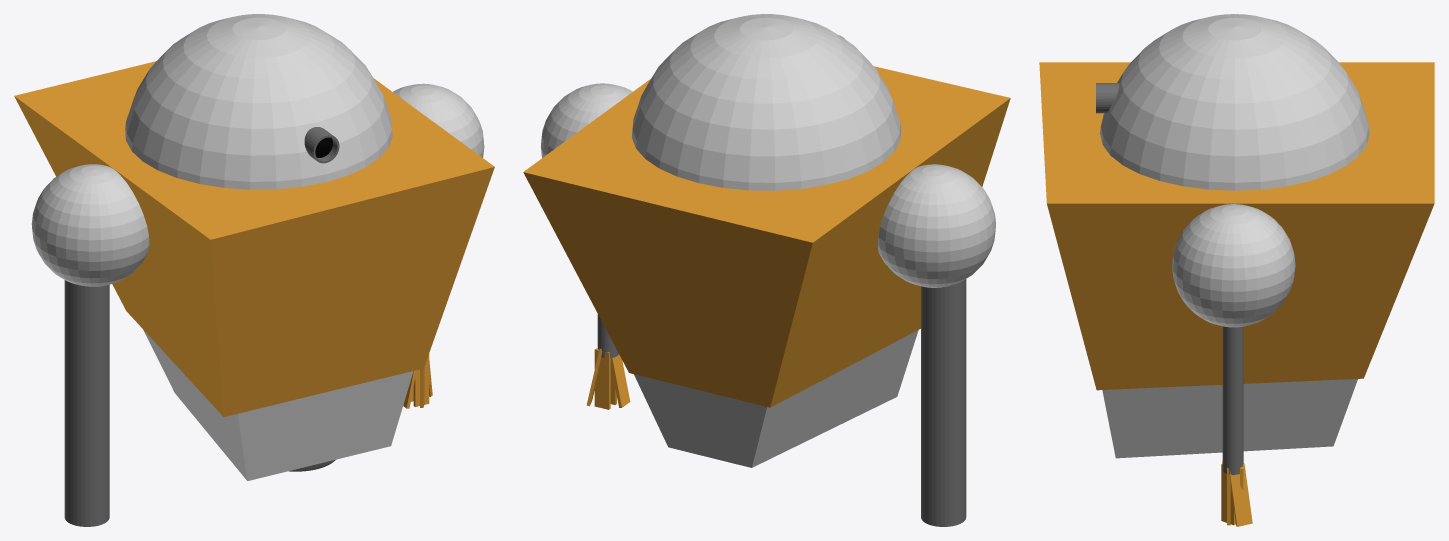
Rendered from Enemy2-clean.fbx.
3 views of the same model, side by side, from view 1: azimuth 30°, elevation 25°; view 2: azimuth 150°, elevation 25°; view 3: azimuth 270°, elevation 25° (orthographic).
Parts seen in each view (by area): view 1: Cube.001, Sphere.001, Sphere.002; view 2: Cube.001, Sphere.001, Sphere.002; view 3: Cube.001, Sphere.002.
Boxes of the visible parts, box(x1,y1,x2,y2) form: Cube.001: box(14, 14, 494, 480); Sphere.001: box(31, 164, 149, 526); Sphere.002: box(393, 83, 484, 408); Cube.001: box(523, 14, 1010, 467); Sphere.001: box(877, 164, 995, 526); Sphere.002: box(541, 83, 632, 409); Cube.001: box(1039, 14, 1434, 458); Sphere.002: box(1172, 204, 1295, 526).
Bounding box in the file's own units: 158 × 154 × 123.
